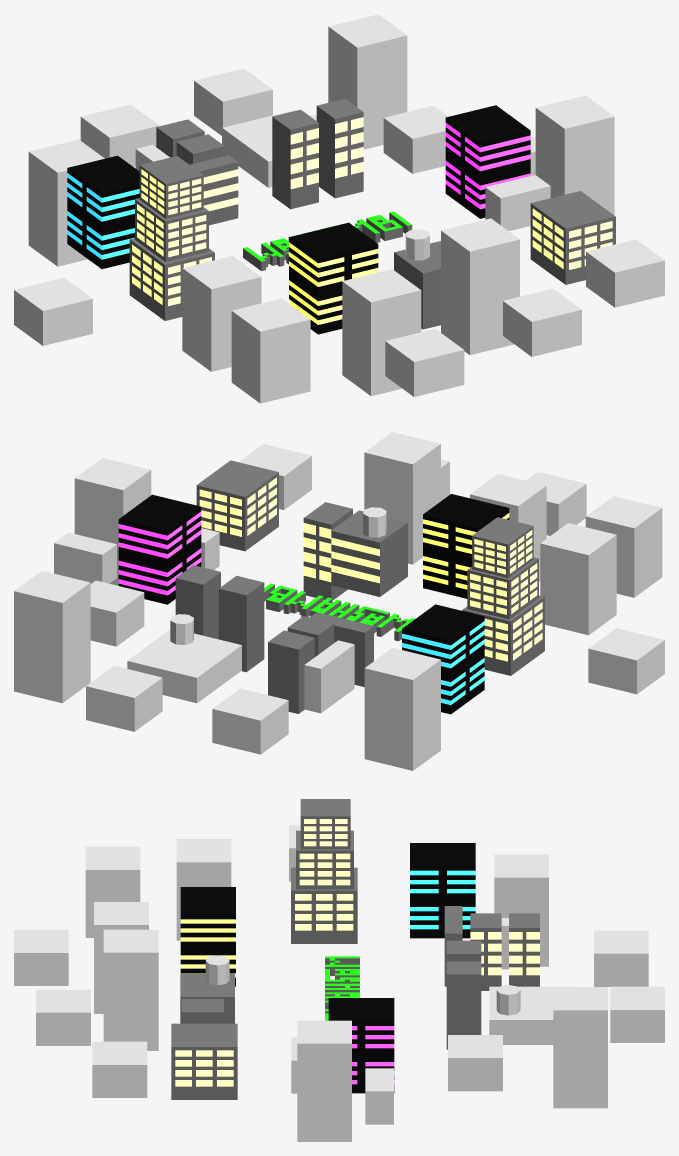
3 renders of one model, top to bottom at view 1: azimuth 30°, elevation 25°; view 2: azimuth 150°, elevation 25°; view 3: azimuth 270°, elevation 25°, orthographic. The views are drawn at different scales.
Visible parts, largest first — view 1: Cube026, Cube029, Cube028, Cube024, Cube025, Cube012, Cube023_1, Cube032, Cube020_1, Cube026_1, Cube027_1, Cube022 (+30 smaller); view 2: Cube029, Cube032, Cube012, Cube026, Cube023_1, Cube013, Cube025, Cube028, Cube020_1, Cube027_1, Cube026_1, Cube024_1 (+32 smaller); view 3: Cube028, Cube029, Cube026, Cube020_1, Cube027_1, Cube032, Cube026_1, Cube025, Cube023_1, Cube027, Cube011, Cube020 (+30 smaller).
Boxes of the visible parts, <box> form: Cube026: <box>441,218,519,354</box>; Cube029: <box>328,14,407,149</box>; Cube028: <box>535,95,614,215</box>; Cube024: <box>342,269,421,396</box>; Cube025: <box>231,298,310,403</box>; Cube012: <box>182,256,261,371</box>; Cube023_1: <box>445,105,530,218</box>; Cube032: <box>28,139,104,266</box>; Cube020_1: <box>67,155,139,268</box>; Cube026_1: <box>289,222,378,334</box>; Cube027_1: <box>530,191,615,284</box>; Cube022: <box>385,329,464,396</box>; Cube029: <box>14,570,90,703</box>; Cube032: <box>364,647,440,770</box>; Cube012: <box>540,523,616,635</box>; Cube026: <box>364,432,440,564</box>; Cube023_1: <box>118,494,201,604</box>; Cube013: <box>127,629,241,703</box>; Cube025: <box>585,496,662,597</box>; Cube028: <box>74,458,151,585</box>; Cube020_1: <box>402,604,484,714</box>; Cube027_1: <box>196,460,278,551</box>; Cube026_1: <box>423,494,509,598</box>; Cube024_1: <box>331,510,407,596</box>; Cube028: <box>297,1020,351,1141</box>; Cube029: <box>553,987,607,1108</box>; Cube026: <box>103,929,158,1050</box>; Cube020_1: <box>410,843,475,938</box>; Cube027_1: <box>171,1023,237,1099</box>; Cube032: <box>494,854,548,966</box>; Cube026_1: <box>180,887,235,986</box>; Cube025: <box>85,846,140,937</box>; Cube023_1: <box>328,998,394,1093</box>; Cube027: <box>92,1041,147,1097</box>; Cube011: <box>448,1035,502,1091</box>; Cube020: <box>594,930,648,986</box>.
Size of what is drawn, in the model's own units: 9.58 by 2.68 by 9.89.
